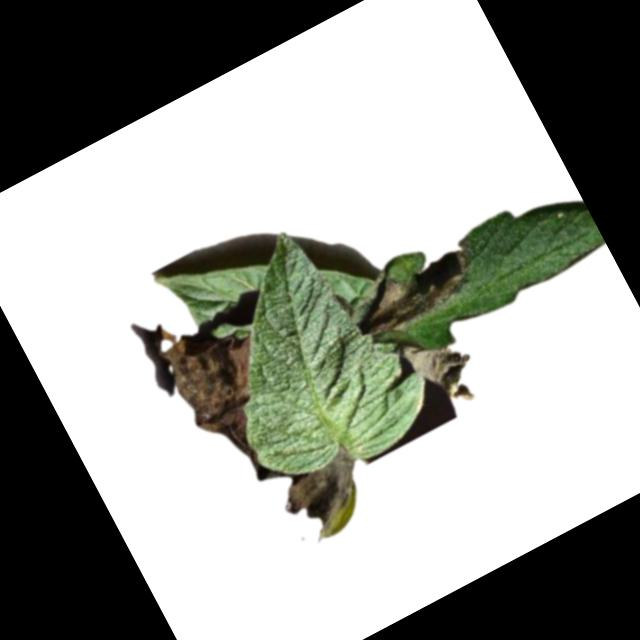Late_blight: (138, 274, 314, 499), (337, 229, 493, 349), (272, 445, 380, 551), (393, 318, 488, 421)
healthy: (169, 207, 443, 505)
